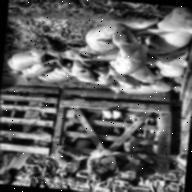boar: (5, 0, 192, 106)
